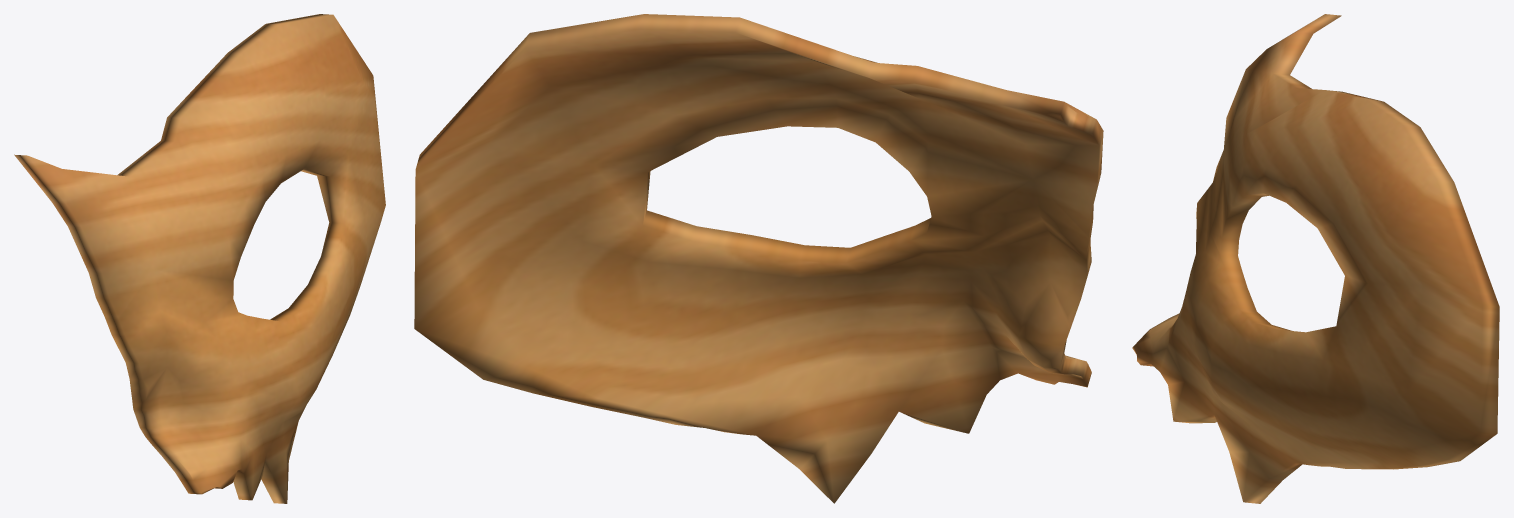
The model's file is Skull_Mask.003.fbx.
3 renders of one model, left to right at view 1: azimuth 30°, elevation 25°; view 2: azimuth 150°, elevation 25°; view 3: azimuth 270°, elevation 25°, orthographic. The views are drawn at different scales.
Parts seen in each view (by area): view 1: Skull_Mask.003; view 2: Skull_Mask.003; view 3: Skull_Mask.003.
Part boxes in pixels (x1,y1,x2,y2): Skull_Mask.003: (14,14,385,503); Skull_Mask.003: (414,14,1103,503); Skull_Mask.003: (1132,14,1499,503).
Bounding box in the file's own units: 31.17 × 28.3 × 22.65.
